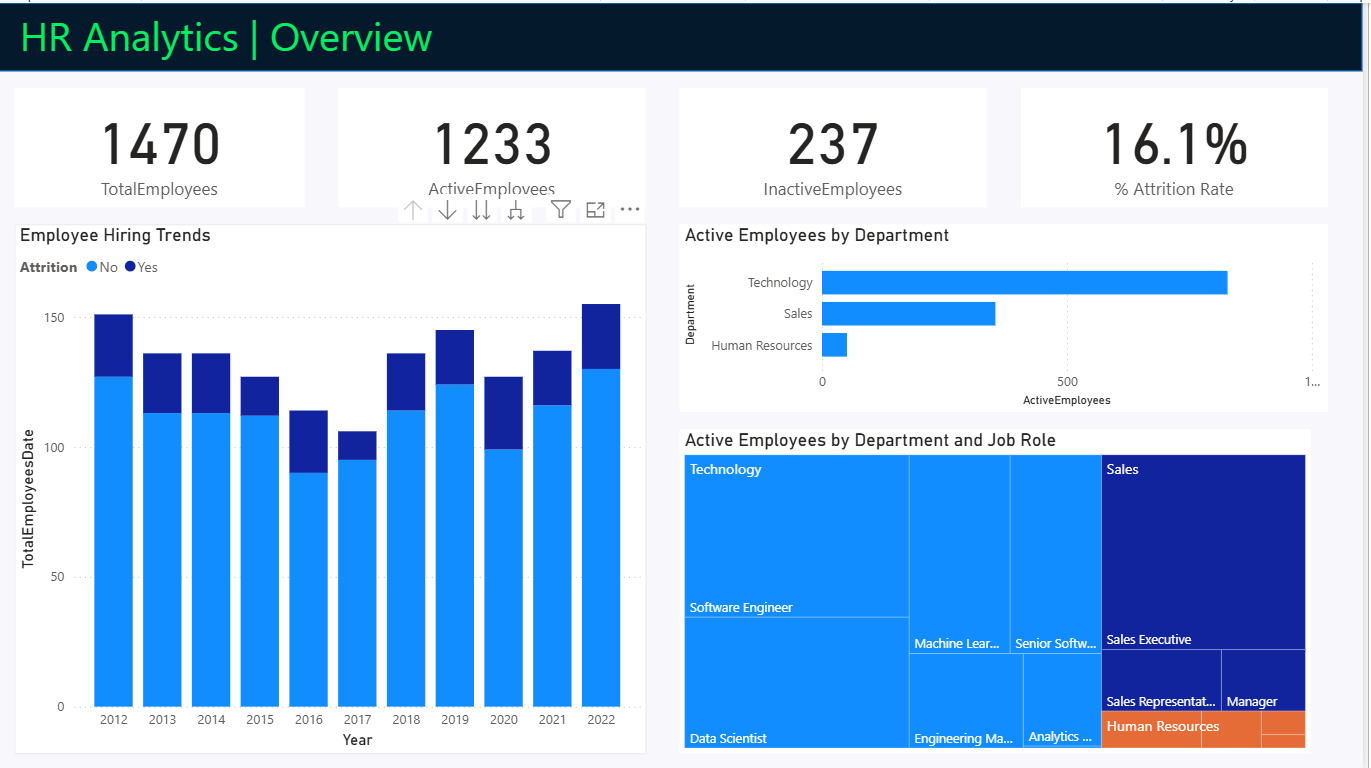

The dashboard page shown, as its layout file describes it:
{"tool":"powerbi","page":{"name":"Overview","canvas":[1280,720],"ordinal":0},"visuals":[{"type":"card","fields":{"Values":["_Measures.TotalEmployees"]},"box":[16,80,272,112],"z":0},{"type":"card","fields":{"Values":["_Measures.ActiveEmployees"]},"box":[320,80,288,112],"z":1000},{"type":"card","fields":{"Values":["_Measures.InactiveEmployees"]},"box":[640,80,288,112],"z":2000},{"type":"card","fields":{"Values":["_Measures.% Attrition Rate"]},"box":[960,80,288,112],"z":3000},{"type":"columnChart","title":"Employee Hiring Trends","fields":{"Category":["DimDate.Date.Variation.Date Hierarchy.Year","DimDate.Date.Variation.Date Hierarchy.Quarter","DimDate.Date.Variation.Date Hierarchy.Month","DimDate.Date.Variation.Date Hierarchy.Day"],"Y":["_Measures.TotalEmployeesDate"],"Series":["DimEmployee.Attrition"]},"box":[16,208,592,496],"z":4000},{"type":"clusteredBarChart","title":"Active Employees by Department","fields":{"Category":["DimEmployee.Department"],"Y":["_Measures.ActiveEmployees"]},"box":[640,208,608,176],"z":5000},{"type":"treemap","title":"Active Employees by Department and Job Role","fields":{"Values":["_Measures.ActiveEmployees"],"Group":["DimEmployee.Department"],"Details":["DimEmployee.JobRole"]},"box":[640,400,592,304],"z":6000},{"type":"shape","box":[0,0,1280,64],"z":7000},{"type":"textbox","box":[16,0,448,64],"z":8000}]}

Visuals, with their boxes in screenshot pixels (x1, y1, x2, y2), scaled from the page's 1280x720 canvas onto the 1371x768 screenshot:
card - _Measures.TotalEmployees: (17,85,308,205)
card - _Measures.ActiveEmployees: (343,85,651,205)
card - _Measures.InactiveEmployees: (686,85,994,205)
card - _Measures.% Attrition Rate: (1028,85,1337,205)
"Employee Hiring Trends" columnChart: (17,222,651,751)
"Active Employees by Department" clusteredBarChart: (686,222,1337,410)
"Active Employees by Department and Job Role" treemap: (686,427,1320,751)
shape: (0,0,1370,68)
textbox: (17,0,497,68)
